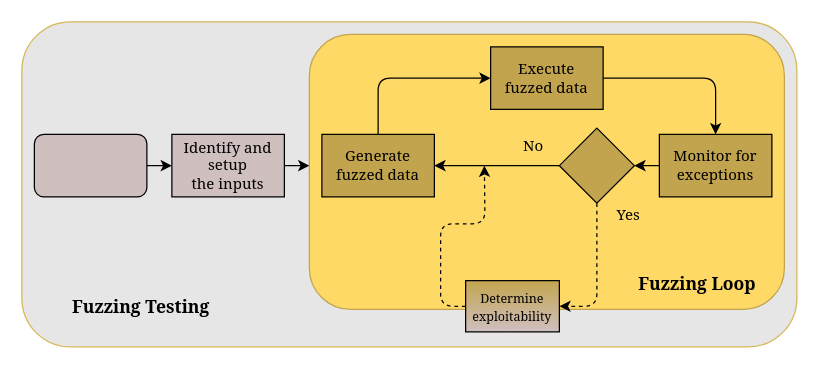
Some shapes in this 819 by 369 pixel diagram are drawn without their labels. Each missing label, with the box of its shape:
Exception found ?: (558, 127, 634, 203)
Identify and setup the target: (33, 133, 147, 197)
